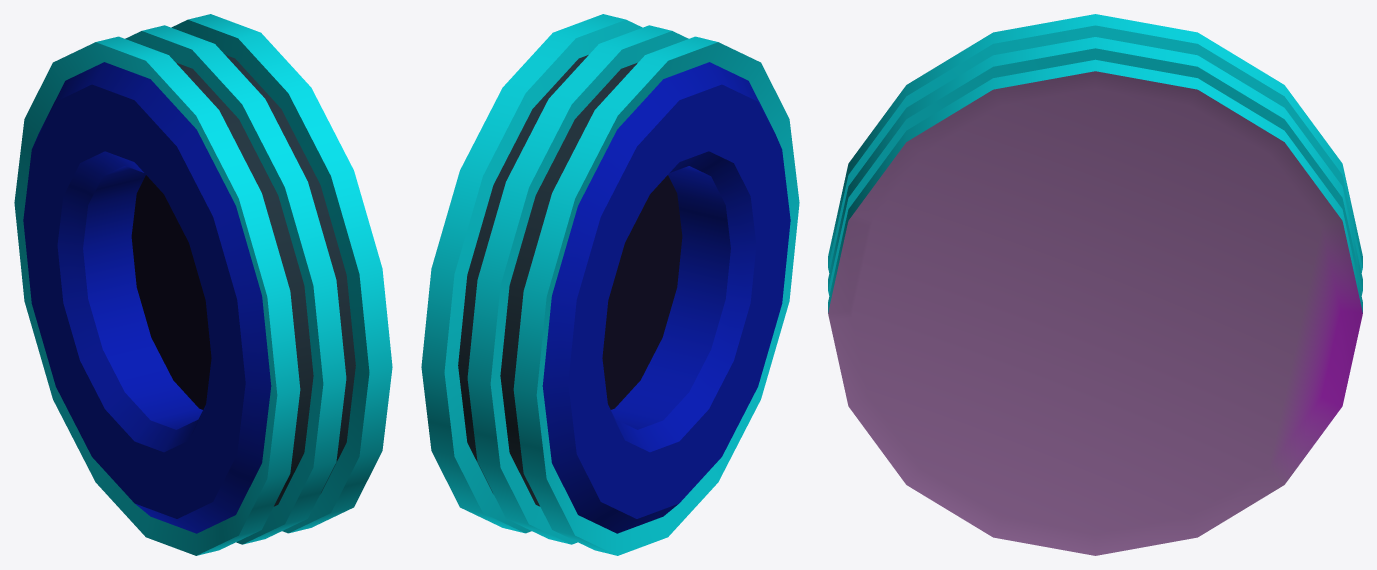
Rendered from RodasCyberneticas.fbx.
3 renders of one model, left to right at view 1: azimuth 30°, elevation 25°; view 2: azimuth 150°, elevation 25°; view 3: azimuth 270°, elevation 25°, orthographic.
Parts seen in each view (by area): view 1: Interior.008; view 2: Interior.008; view 3: Interior.008.
Boxes of the visible parts, x1=… form: Interior.008: x1=14, y1=14, x2=392, y2=555; Interior.008: x1=421, y1=14, x2=799, y2=555; Interior.008: x1=828, y1=14, x2=1362, y2=555.
Bounding box in the file's own units: 13.74 × 49.41 × 49.41.
Materials: 1 (1 with a texture image).
